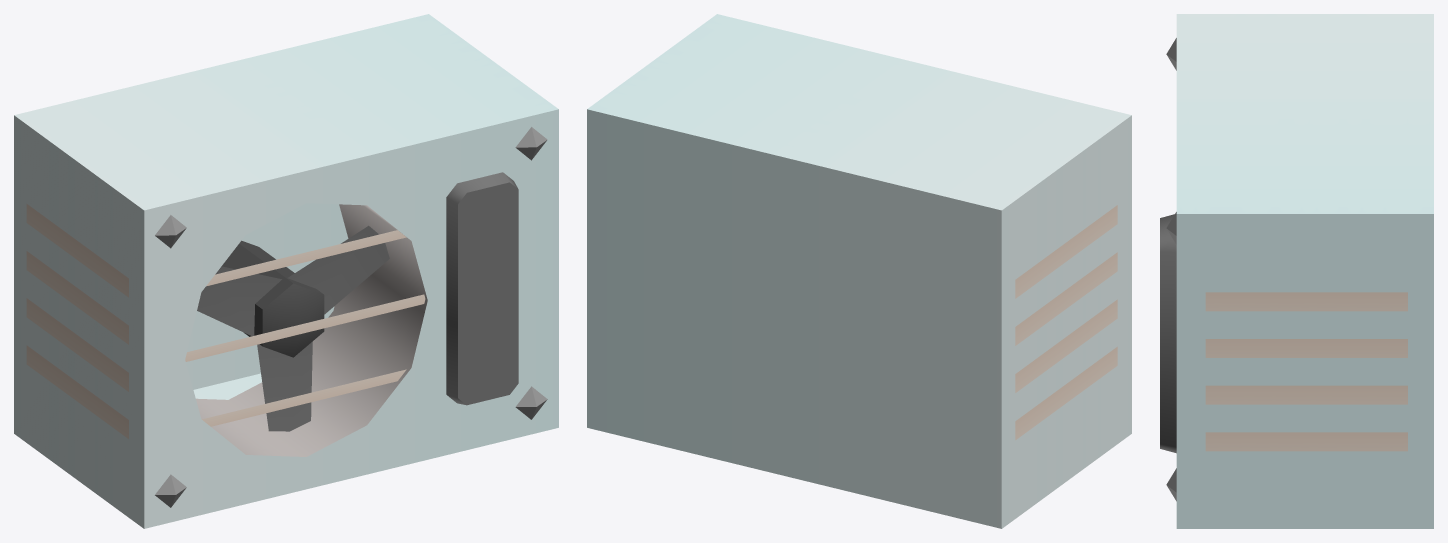
File: Cond.fbx
The picture shows the model from 3 angles, left to right: view 1: azimuth 30°, elevation 25°; view 2: azimuth 150°, elevation 25°; view 3: azimuth 270°, elevation 25°; orthographic projection.
Visible parts, largest first — view 1: Air_Conditioner_1A_2; view 2: Air_Conditioner_1A_2; view 3: Air_Conditioner_1A_2.
Part boxes in pixels (<box>): Air_Conditioner_1A_2: <box>14,14,558,528</box>; Air_Conditioner_1A_2: <box>587,14,1131,528</box>; Air_Conditioner_1A_2: <box>1160,14,1433,528</box>.
Size of the model in its own units: 2083 by 1525 by 1202.
